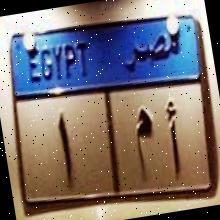1: (52, 107, 83, 188)
alif: (160, 93, 190, 184)
meem: (127, 98, 162, 186)
